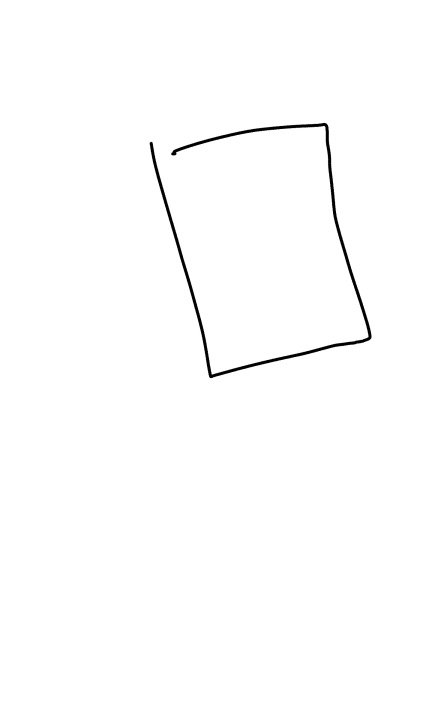Square: (138, 116, 379, 382)
